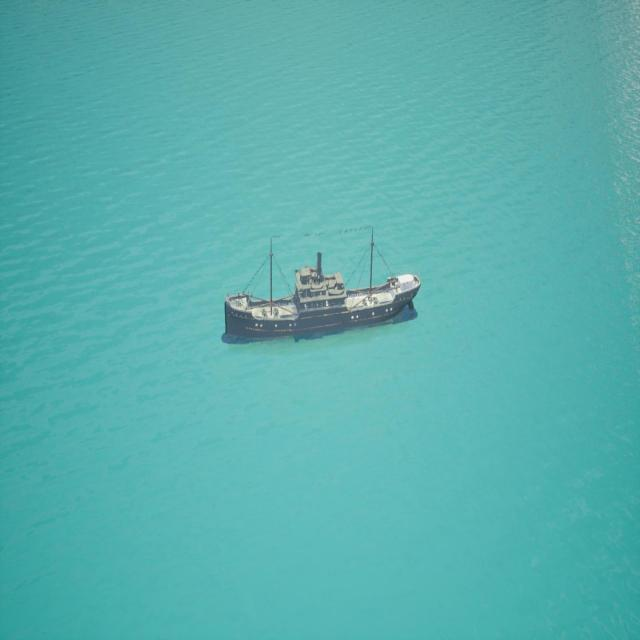fishing ship: (226, 227, 420, 343)
